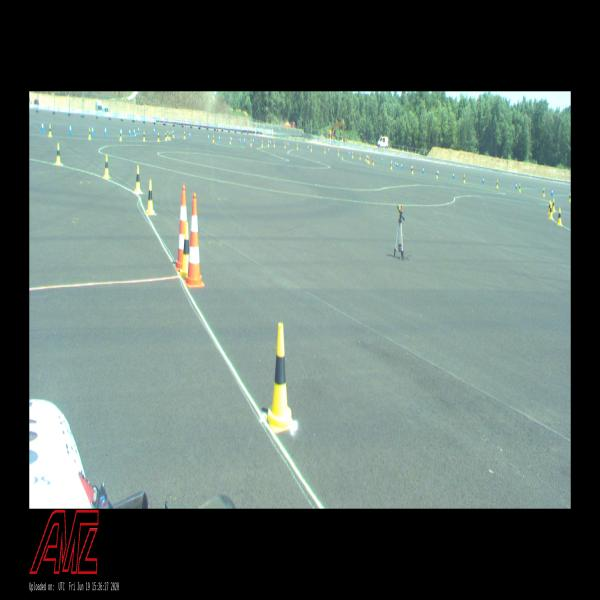blue_cone: (41, 120, 44, 132), (69, 124, 72, 134), (120, 127, 123, 136), (133, 127, 136, 136), (92, 126, 94, 136), (105, 126, 107, 136), (129, 127, 131, 136), (154, 126, 156, 134), (138, 126, 140, 133), (551, 188, 553, 195)
large_orange_cone: (183, 193, 205, 288), (174, 186, 187, 272)
yellow_cone: (264, 323, 294, 432), (180, 222, 189, 278), (146, 179, 155, 214), (135, 166, 142, 193), (104, 155, 110, 178), (56, 143, 62, 165), (558, 208, 562, 225), (549, 204, 553, 219), (552, 198, 556, 212), (48, 125, 52, 136), (548, 200, 551, 214), (88, 128, 91, 139), (119, 130, 122, 140), (157, 132, 160, 142), (463, 174, 466, 182), (496, 180, 499, 188), (143, 132, 145, 142), (569, 193, 571, 202), (165, 132, 167, 140), (168, 132, 170, 140), (412, 166, 414, 174), (436, 170, 438, 178), (519, 184, 521, 192), (543, 188, 545, 196), (390, 162, 392, 169)
